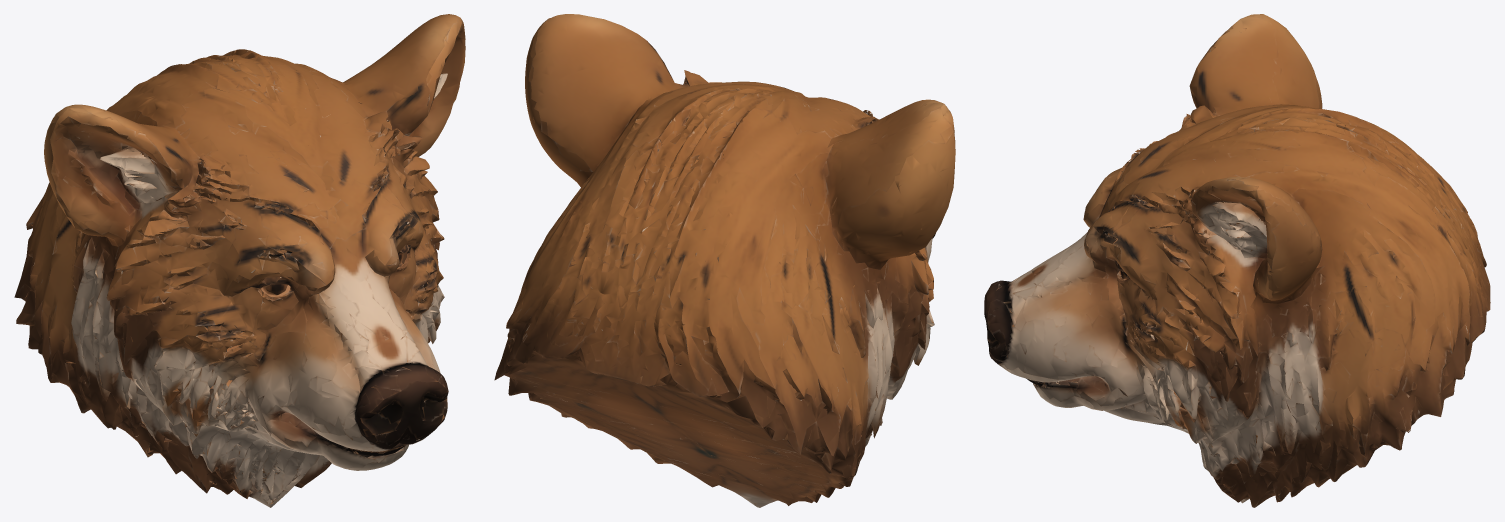
The picture shows the model from 3 angles, left to right: view 1: azimuth 30°, elevation 25°; view 2: azimuth 150°, elevation 25°; view 3: azimuth 270°, elevation 25°; orthographic projection. The views are drawn at different scales.
Visible parts, largest first — view 1: world; view 2: world; view 3: world.
Part boxes in pixels (<box>): world: <box>14,14,465,507</box>; world: <box>494,14,955,507</box>; world: <box>984,14,1490,507</box>.
Size of the model in its own units: 0.8725 by 0.882 by 0.9992.
1 material, 1 textured.
